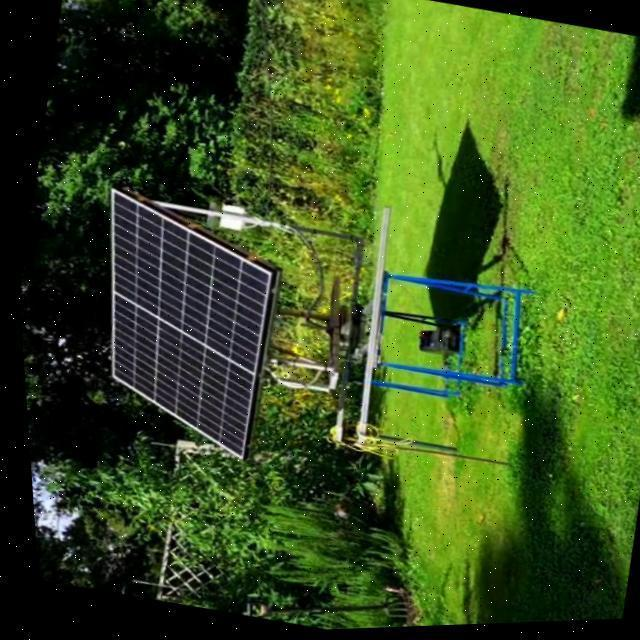Normal Solar Panel: (56, 186, 292, 467)
